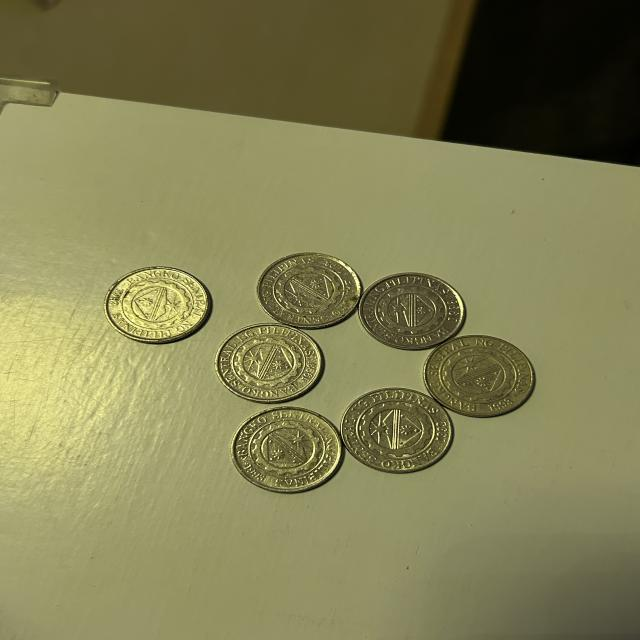1_Old_Back: (433, 344, 524, 406), (353, 400, 439, 462), (244, 418, 327, 480), (222, 333, 310, 391), (117, 276, 199, 334), (272, 261, 351, 319), (368, 282, 450, 336)
